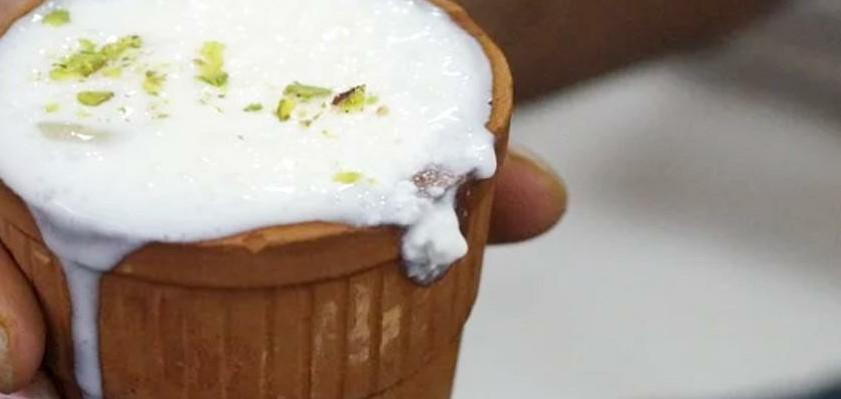Lassi: (0, 0, 493, 243)
